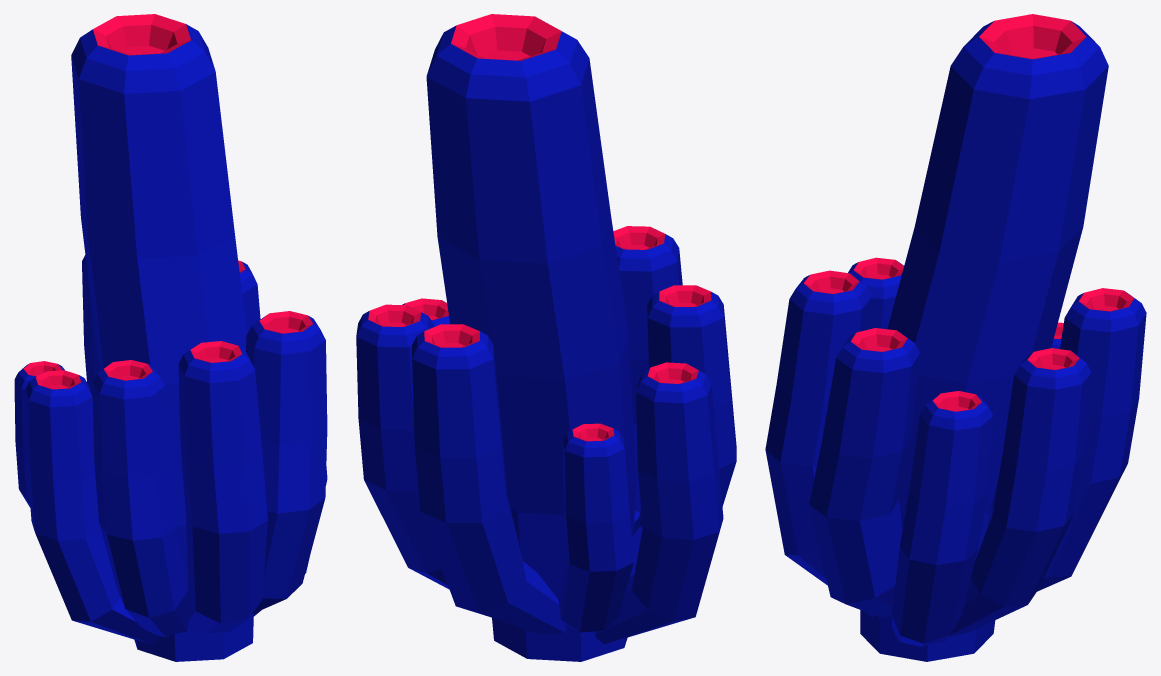
File: propSponges2C.fbx
3 views of the same model, side by side, from view 1: azimuth 30°, elevation 25°; view 2: azimuth 150°, elevation 25°; view 3: azimuth 270°, elevation 25° (orthographic). The views are drawn at different scales.
Visible parts, largest first — view 1: Sponges2C; view 2: Sponges2C; view 3: Sponges2C.
Part boxes in pixels (left/top/right/bottom): Sponges2C: left=14, top=14, right=327, bottom=661; Sponges2C: left=356, top=14, right=736, bottom=661; Sponges2C: left=765, top=14, right=1146, bottom=661.
Size of the model in its own units: 112 by 211 by 122.
